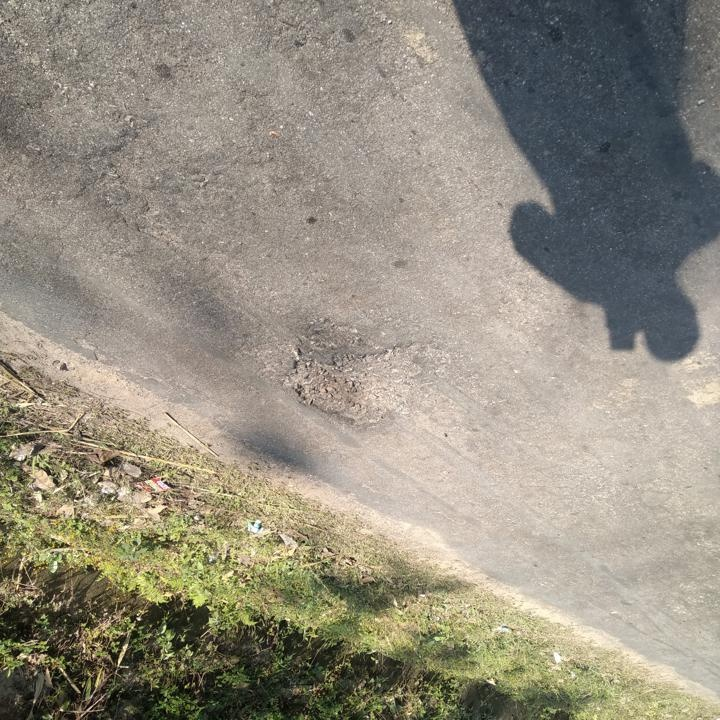pothole: (280, 336, 420, 431)
